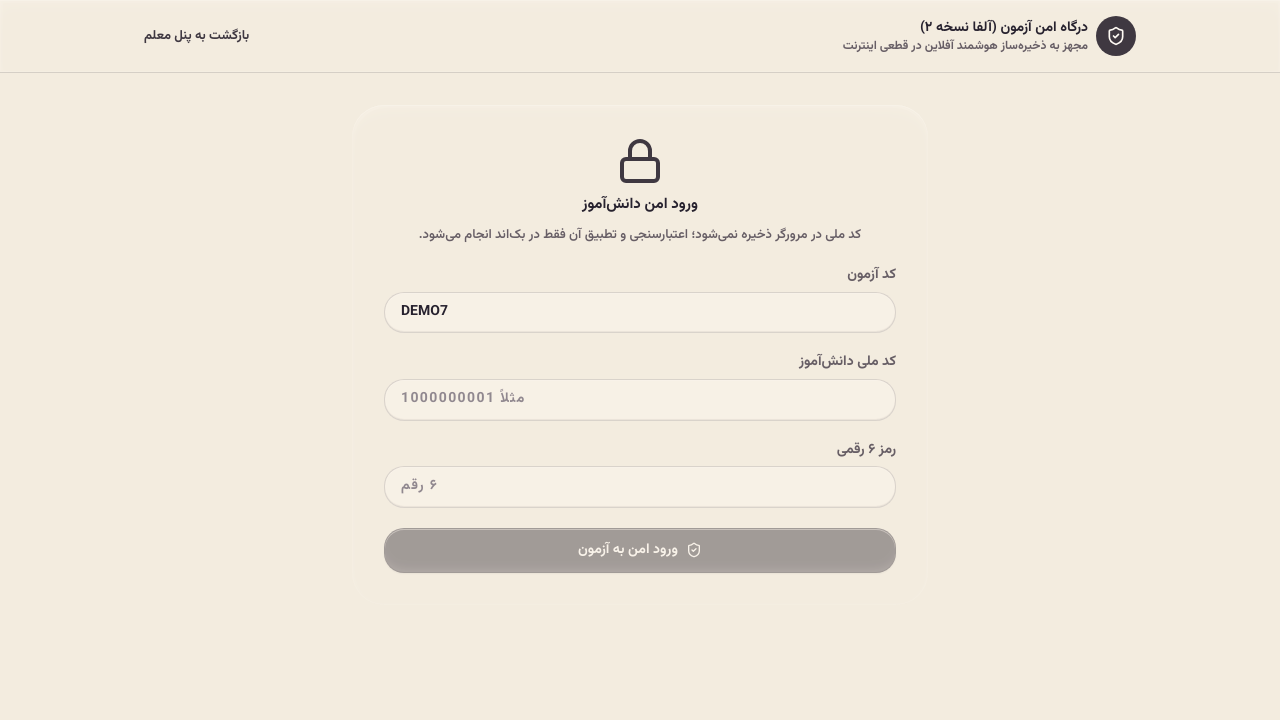
Scenario: SecureExamPortal PIN login (T7) › mismatched confirmations block locally with a Persian error
Step 1. Type "1000000001" into the field with placeholder "مثلاً 1000000001" → (640, 400), box [384,379,896,420]
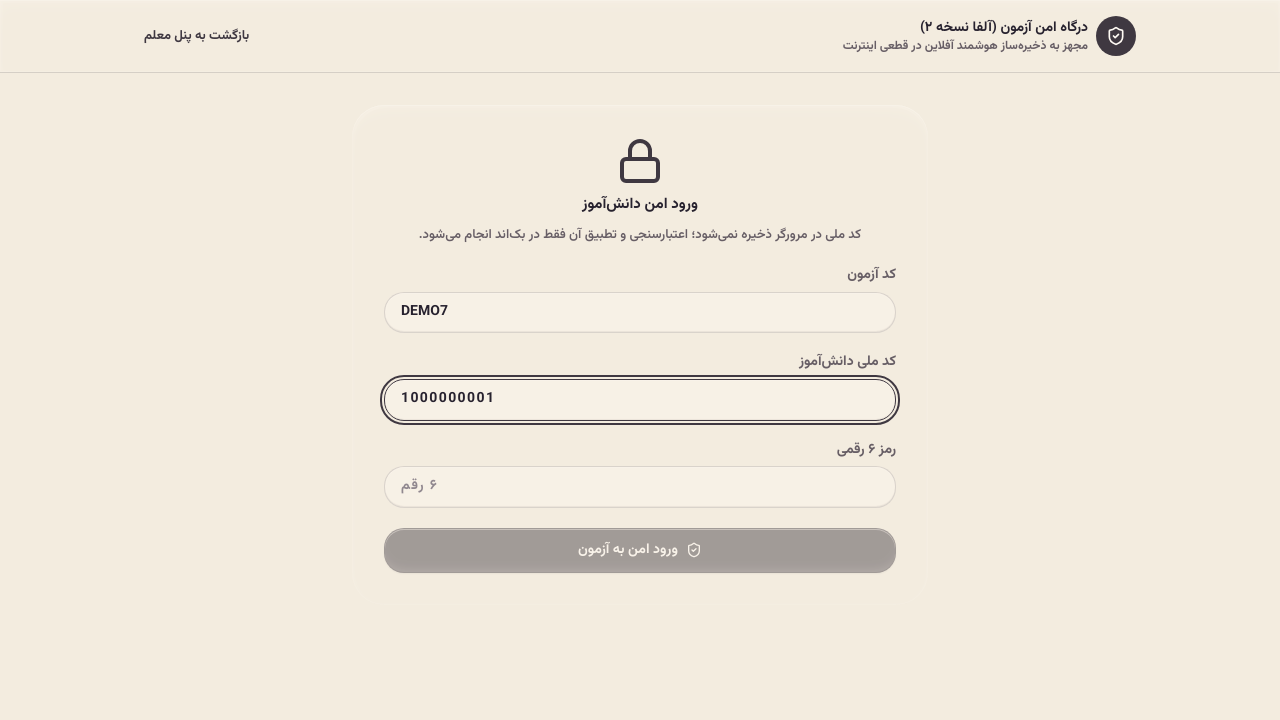
Step 2. Type "123456" into the field with placeholder "۶ رقم" → (640, 487), box [384,466,896,508]
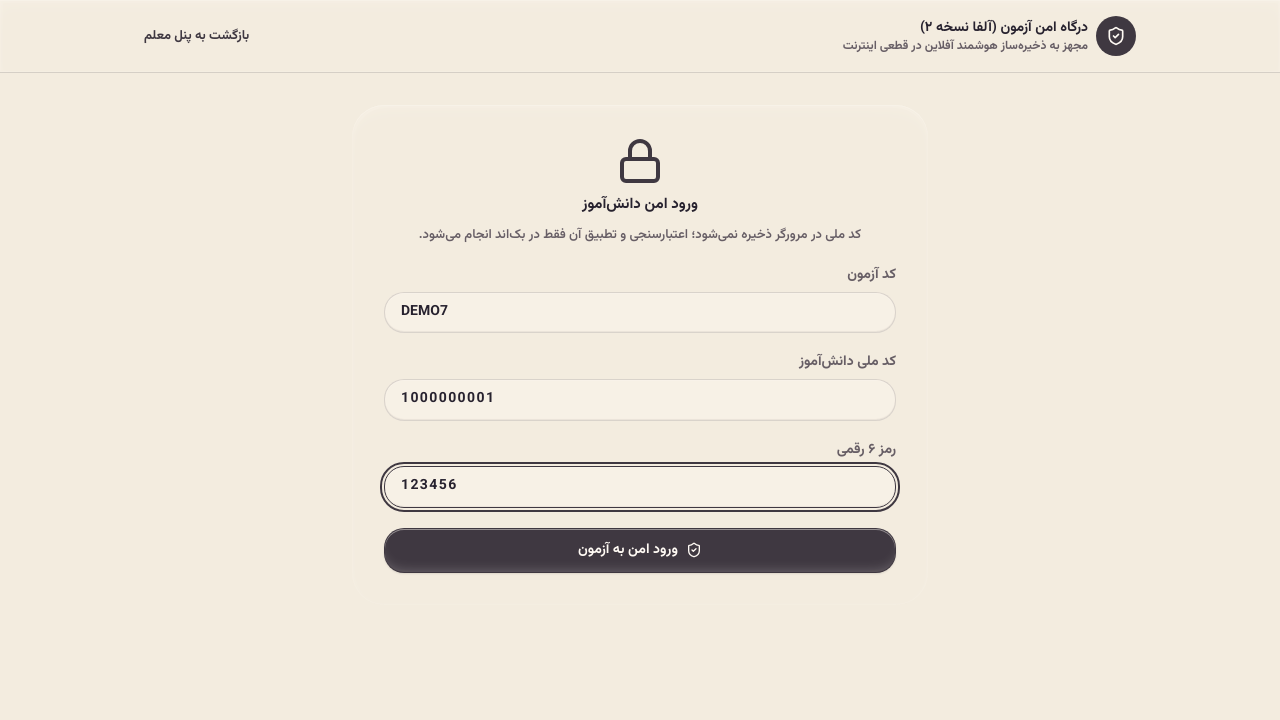
Step 3. Click the button "ورود امن به آزمون" → click(640, 550), box [384,528,896,573]
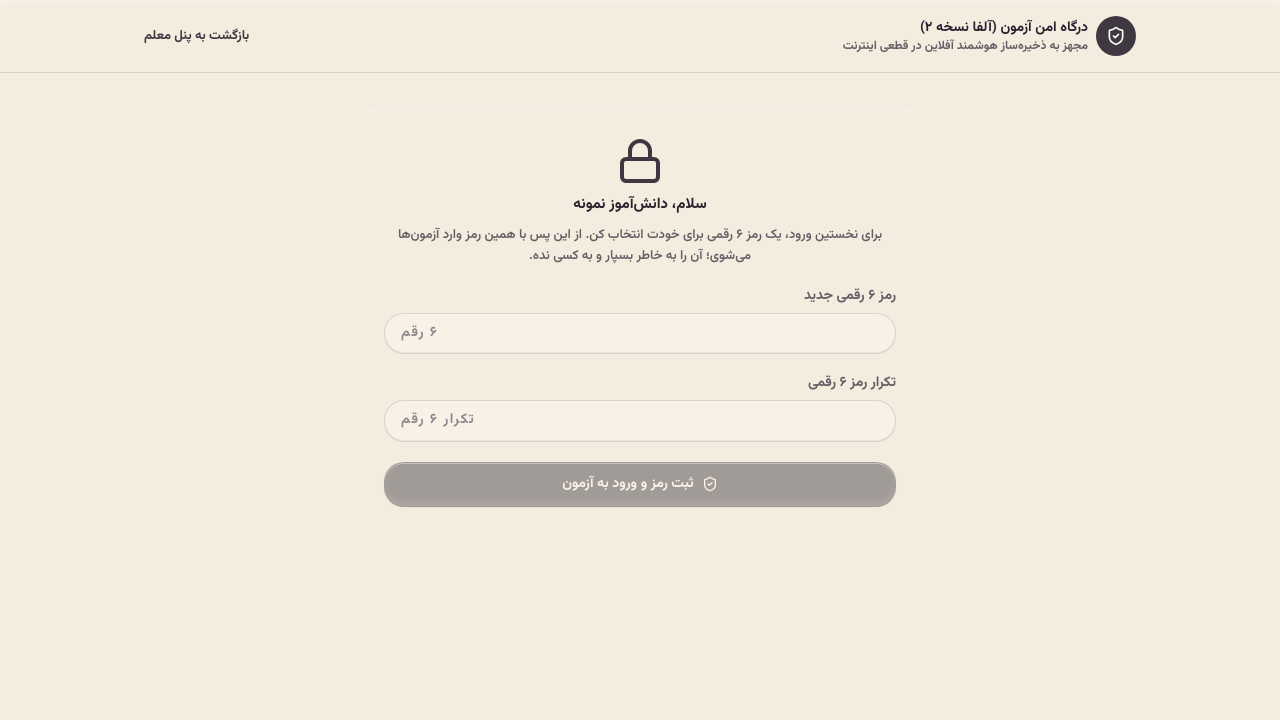
Expected: the heading "سلام، دانش‌آموز نمونه" is shown, [573,193,707,216]
Step 4. Type "123456" into the field with placeholder "۶ رقم" → (640, 334), box [384,313,896,354]
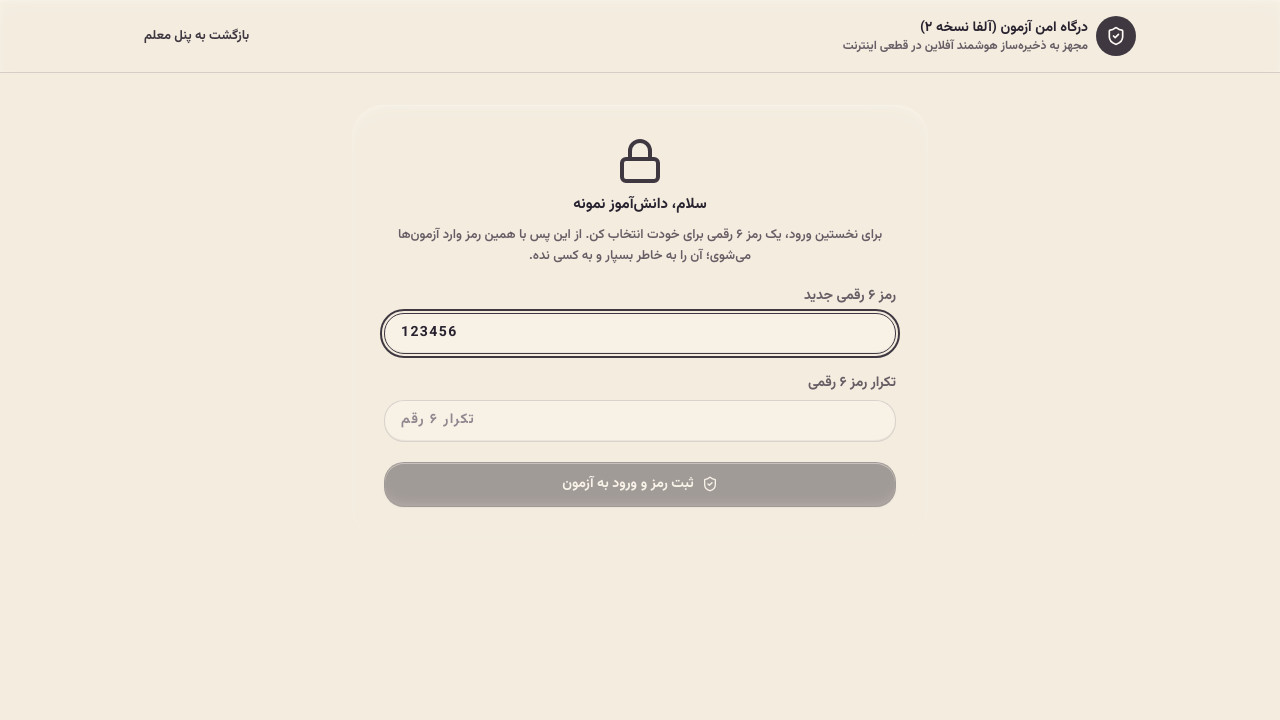
Step 5. Type "654321" into the field with placeholder "تکرار ۶ رقم" → (640, 421), box [384,400,896,442]
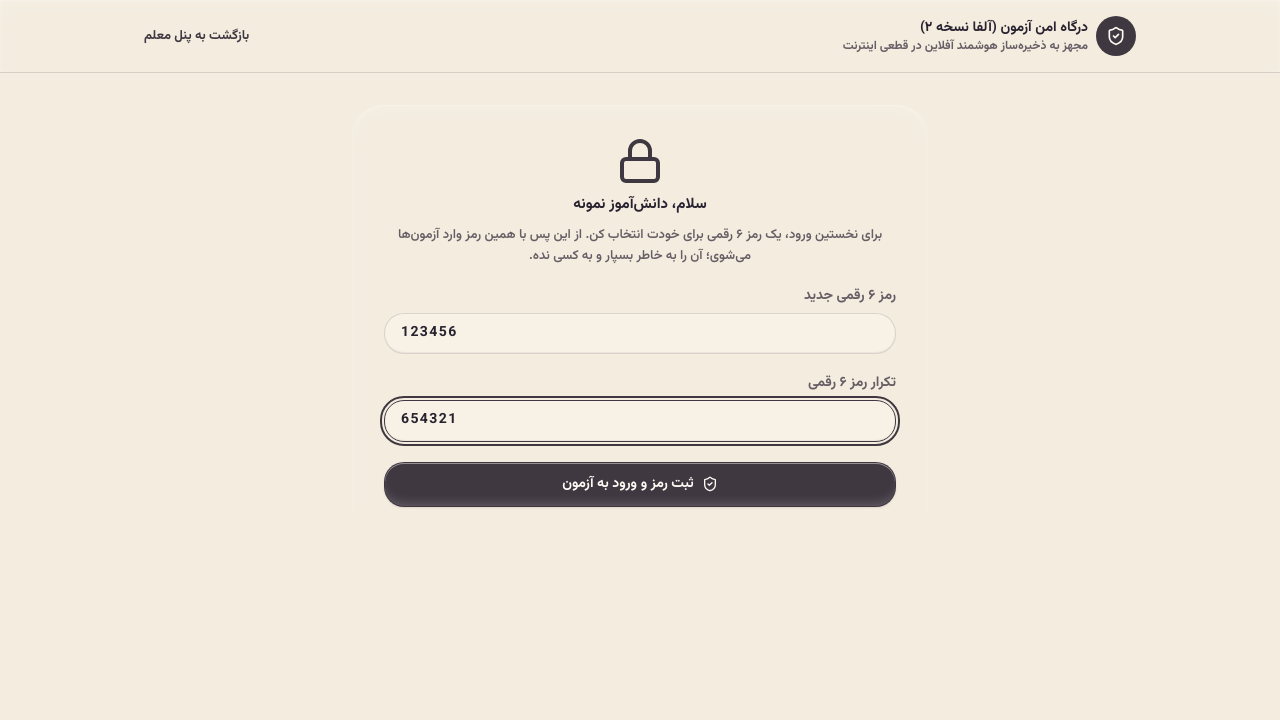
Step 6. Click the button "ثبت رمز و ورود به آزمون" → click(640, 484), box [384,462,896,507]
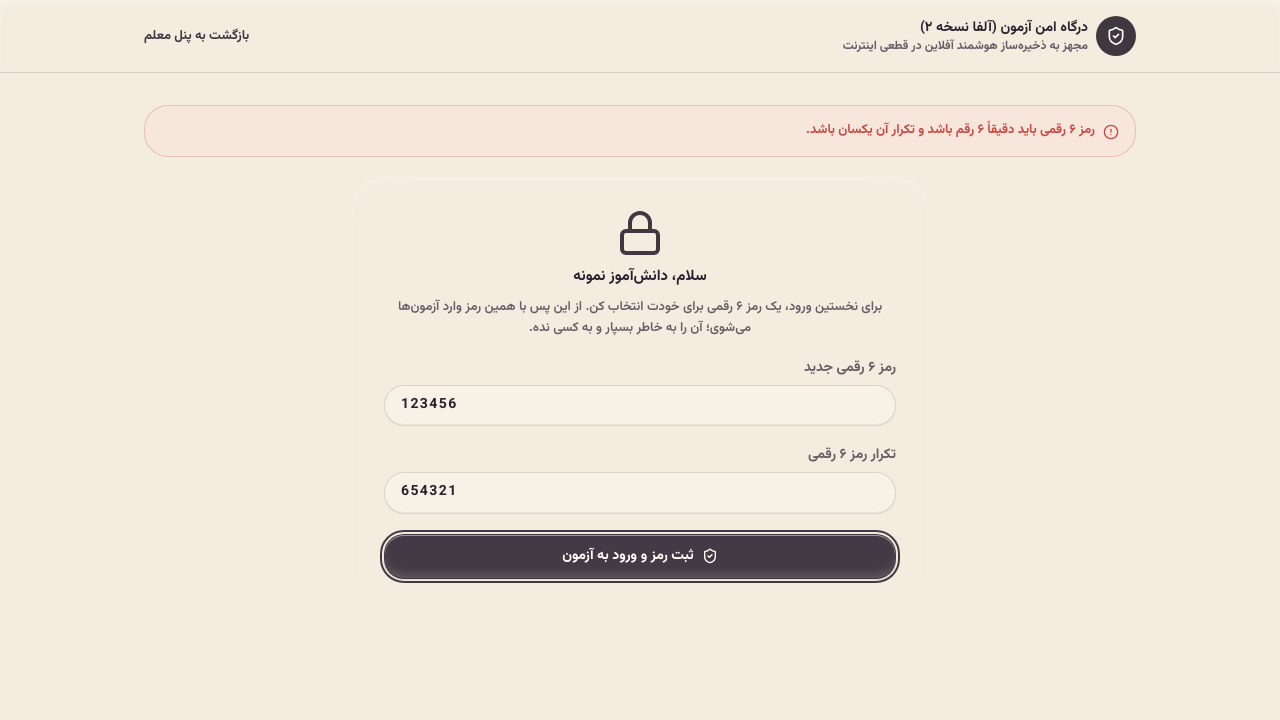
Expected: the text "رمز ۶ رقمی باید دقیقاً ۶ رقم باشد و تکرار آن یکسان باشد." is shown, [806,122,1095,139]
